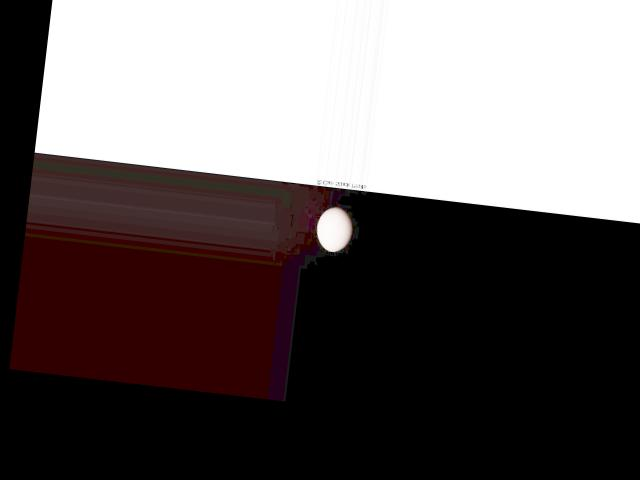egg: (315, 204, 354, 253)
